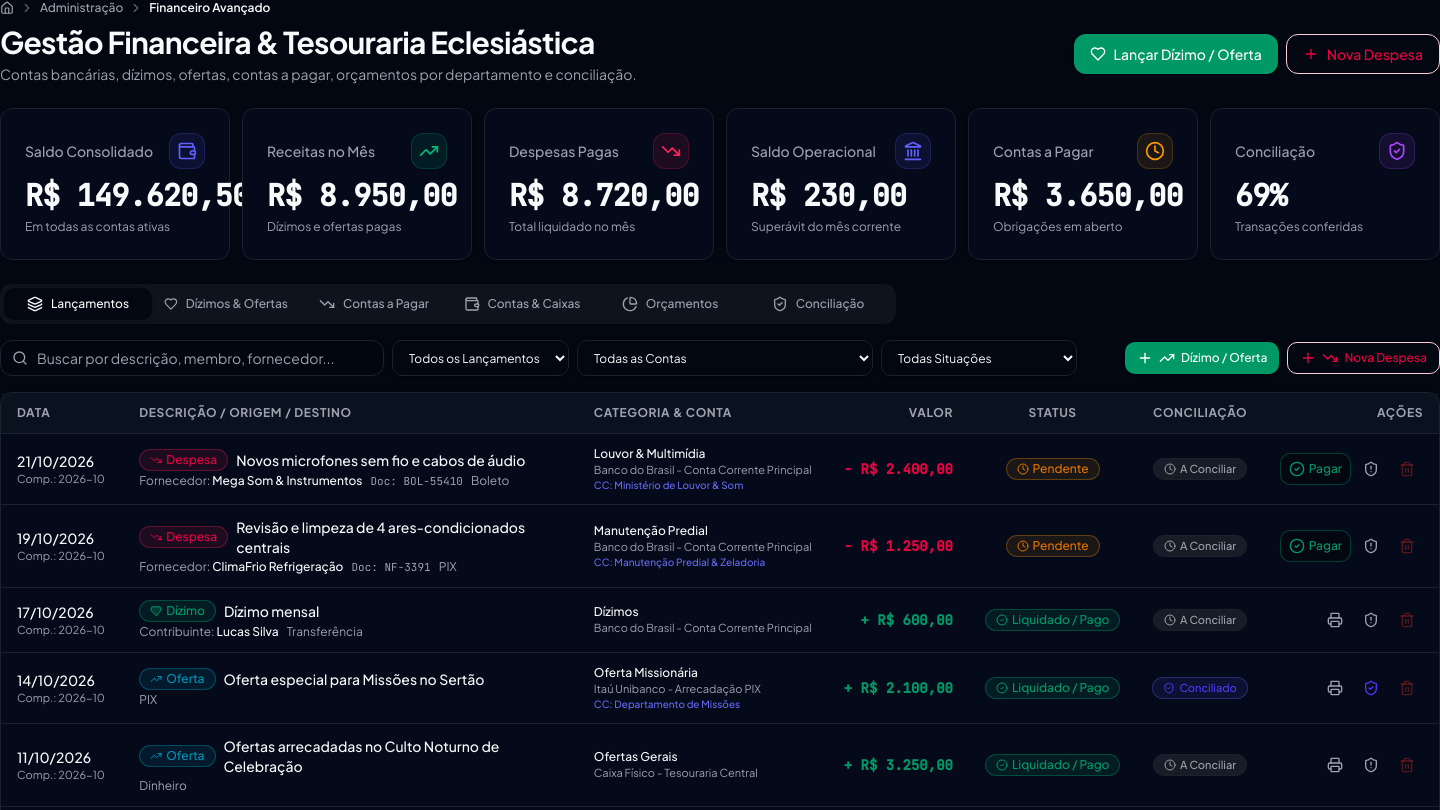
it: Etapa 07 — Financeiro Avançado › deve realizar a conciliação bancária de um lançamento com 1 clique
Note: Muda para a aba de Conciliação
Click the tab "Conciliação". click: (818, 304)
box: [744,288,892,320]
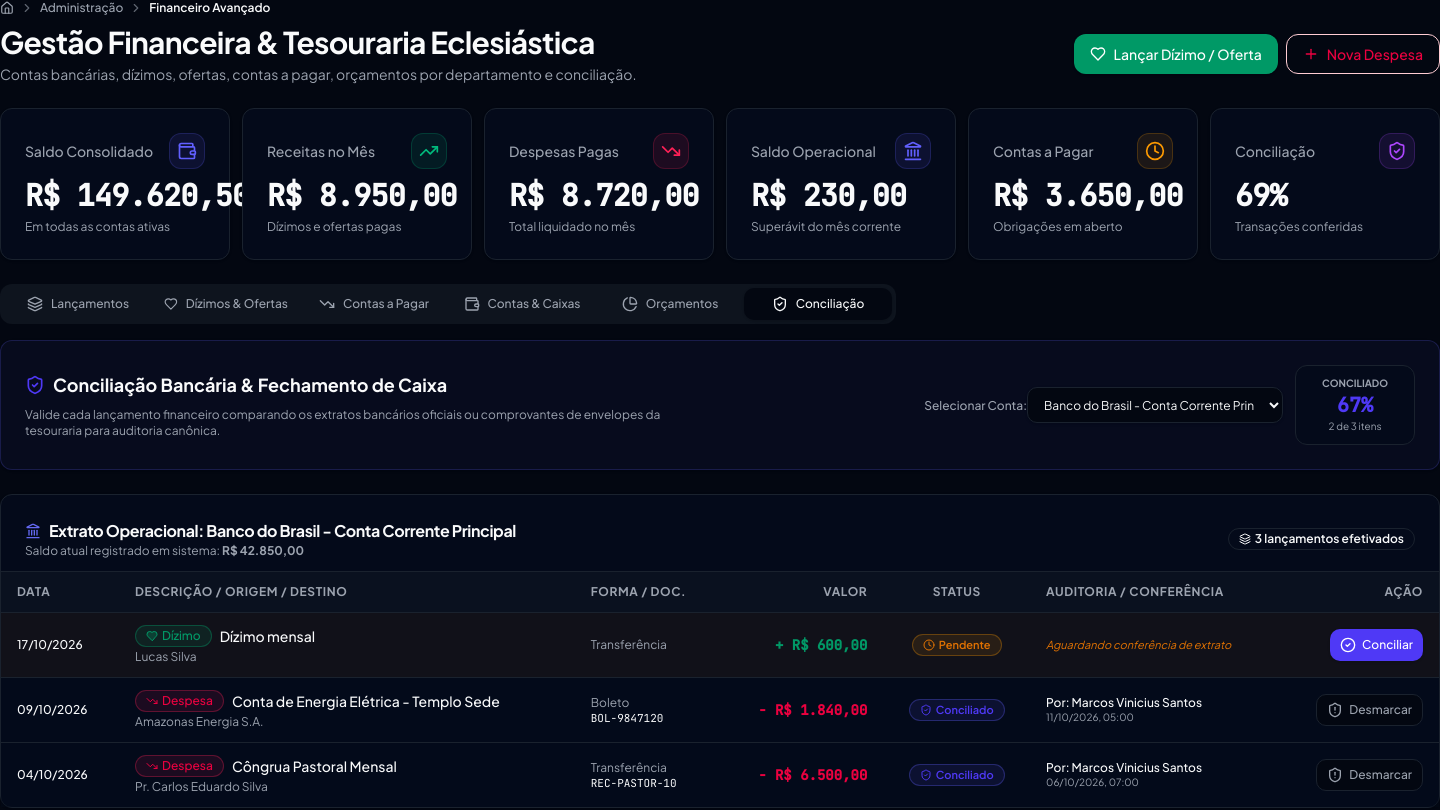
Check: the heading "Conciliação Bancária & Fechamento de Caixa" is shown, box [53,371,447,399]
Click the button "Conciliar". click: (1377, 645)
box: [1330,629,1423,661]
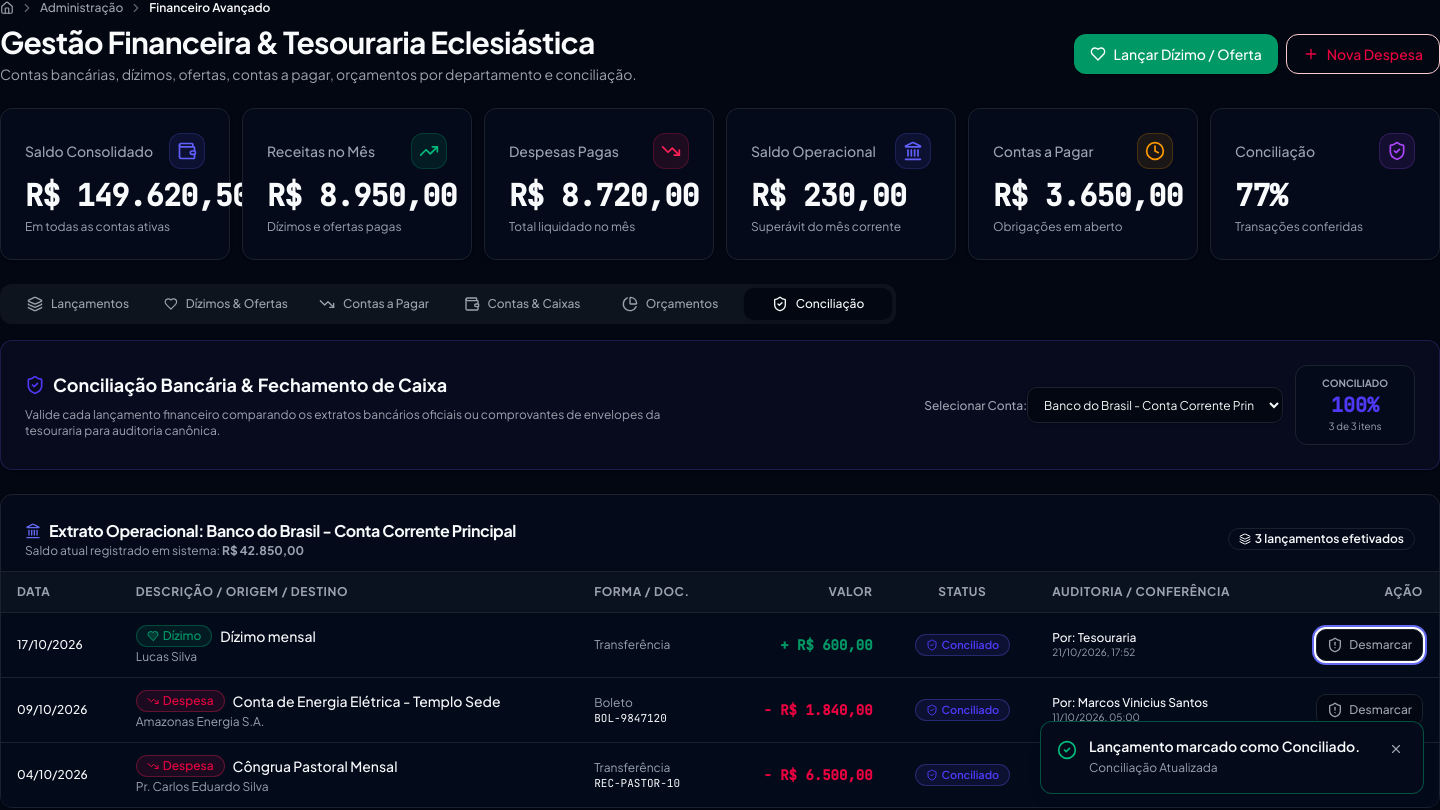
Check: the text "Conciliação Atualizada" is shown, box [1089,760,1218,774]
